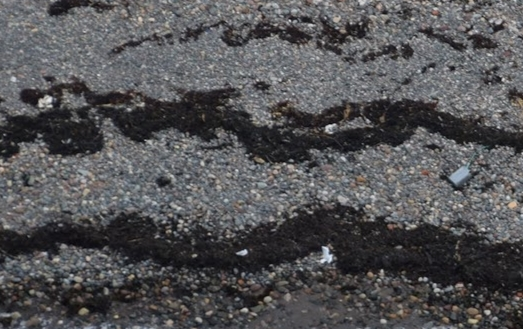white_in_green: (430, 149, 491, 206), (302, 229, 350, 275)
